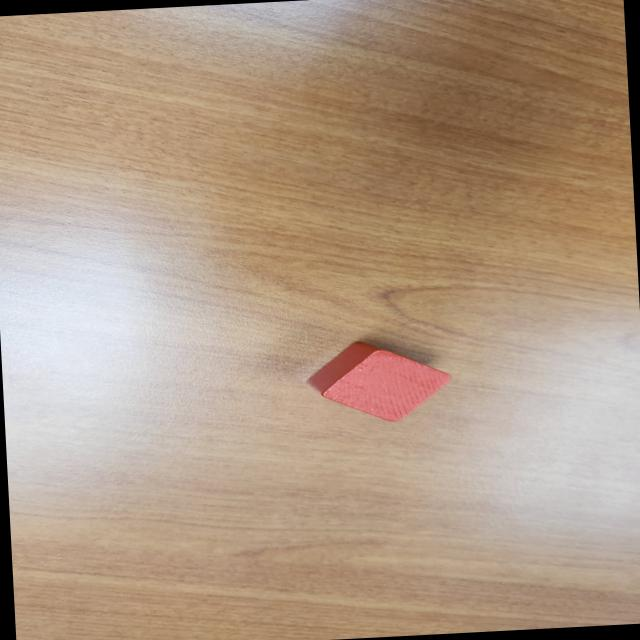red: (304, 337, 458, 428)
